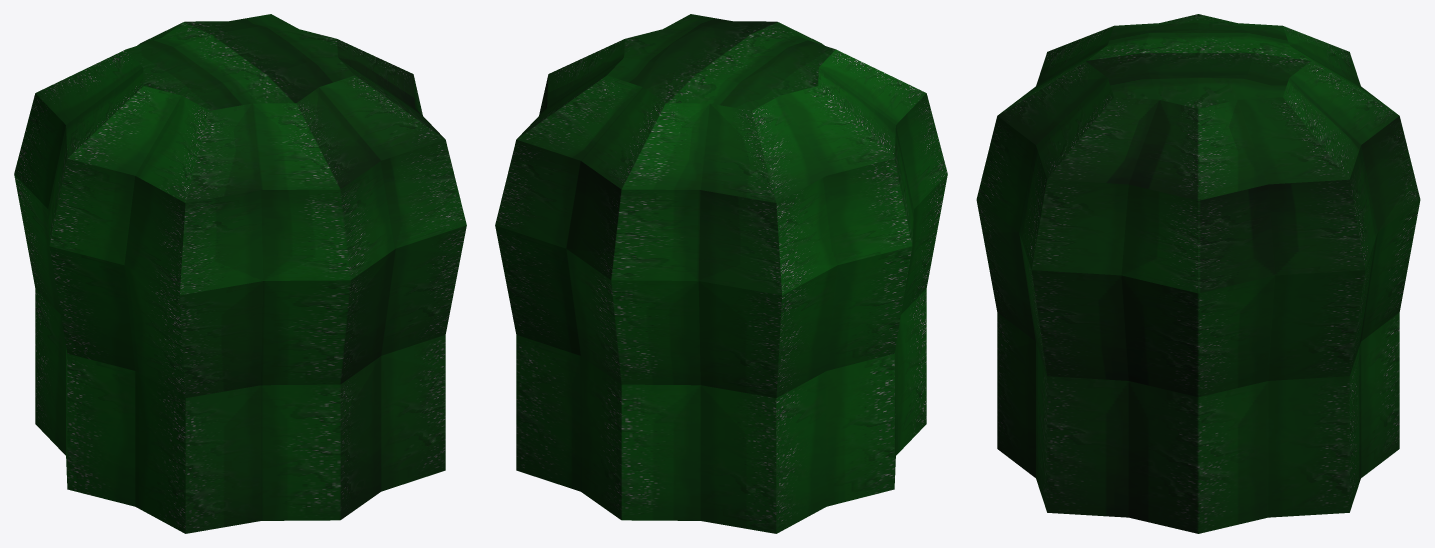
File: cactus.glb
The picture shows the model from 3 angles, left to right: view 1: azimuth 30°, elevation 25°; view 2: azimuth 150°, elevation 25°; view 3: azimuth 270°, elevation 25°; orthographic projection.
Visible parts, largest first — view 1: droit; view 2: droit; view 3: droit.
Boxes of the visible parts, x1=… form: droit: x1=14, y1=14, x2=466, y2=533; droit: x1=495, y1=14, x2=947, y2=533; droit: x1=976, y1=14, x2=1420, y2=533.
Size of the model in its own units: 1.07 by 1.05 by 1.07.
Materials: 1 (1 with a texture image).
